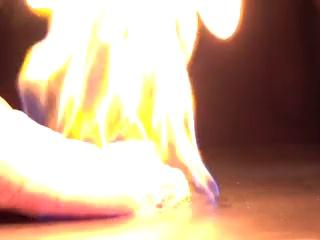Fire: (15, 1, 226, 212)
